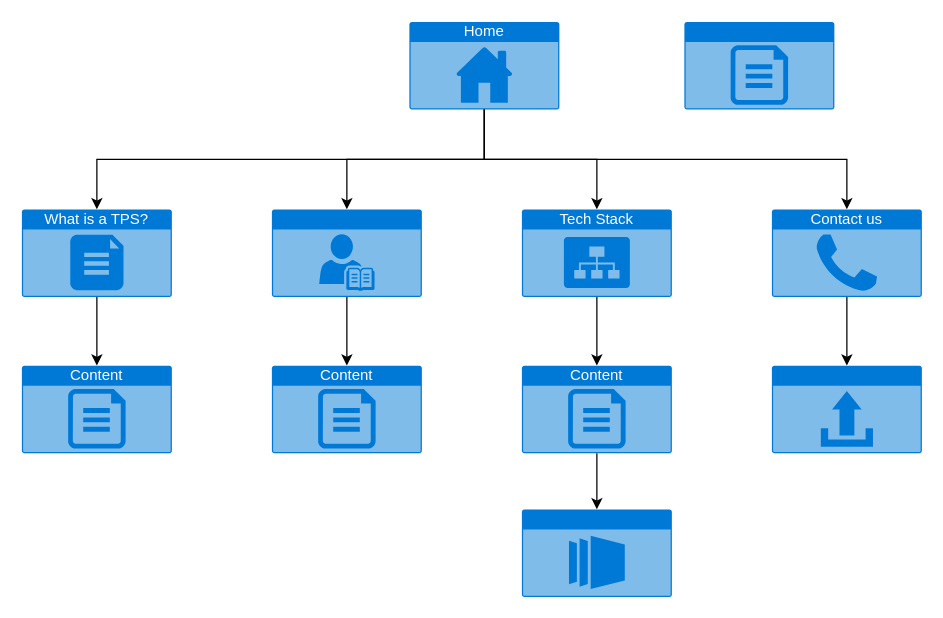
This 943x618 diagram has some shape labels left out. Each missing label, with the box of its shape:
Image Gallery: (521, 509, 671, 596)
RadiateTPS: (271, 209, 421, 296)
Text: (684, 21, 834, 109)
Upload Form: (771, 365, 921, 452)
